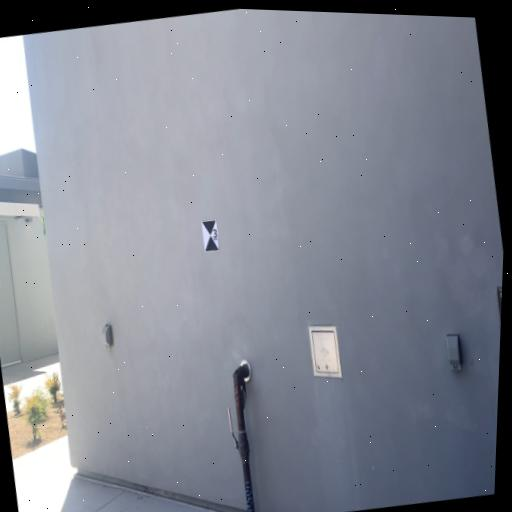target3: (201, 218, 220, 252)
